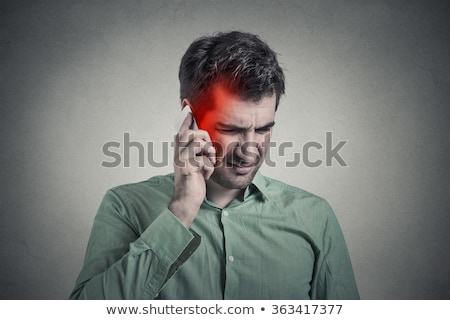phone: (168, 105, 210, 174)
talk: (163, 94, 280, 212)
